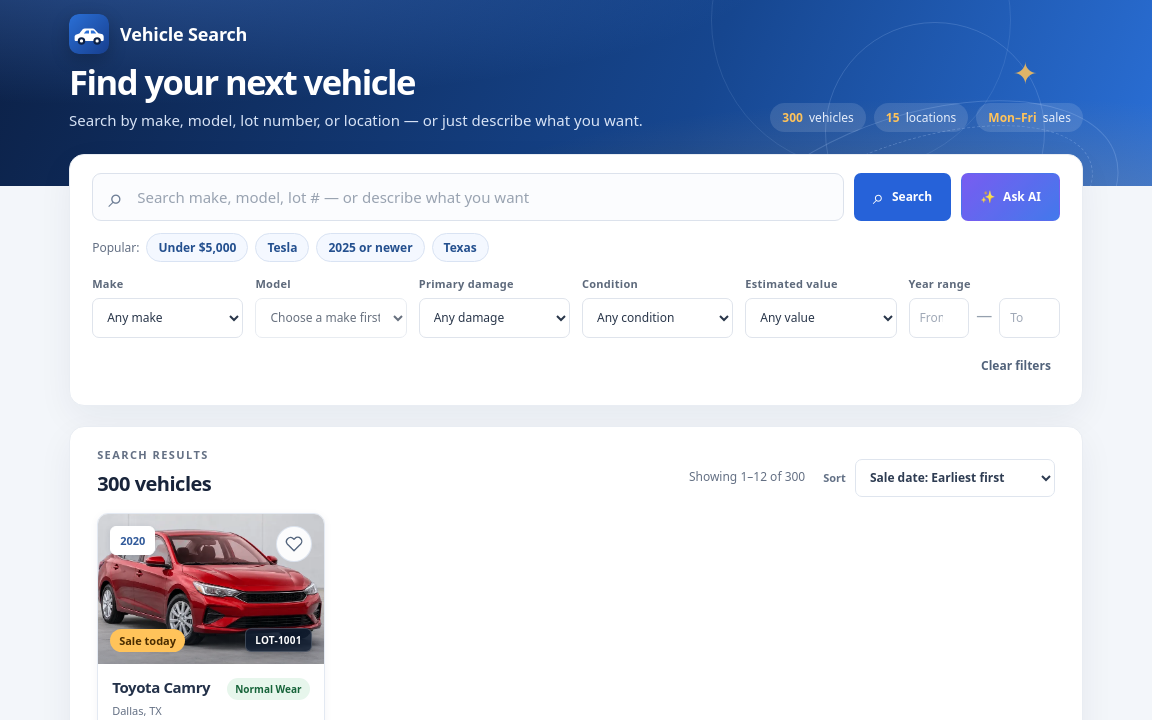
Test: search state regressions › tells the visitor how long to wait when AI search is rate limited
This screenshot has width=1152, height=720.
Expected: the heading "300 vehicles" is shown, [97,470,211,497]
In the search field named "search by vehicle": (482, 197) [135,186,828,208], type "Toyota under $20,000"
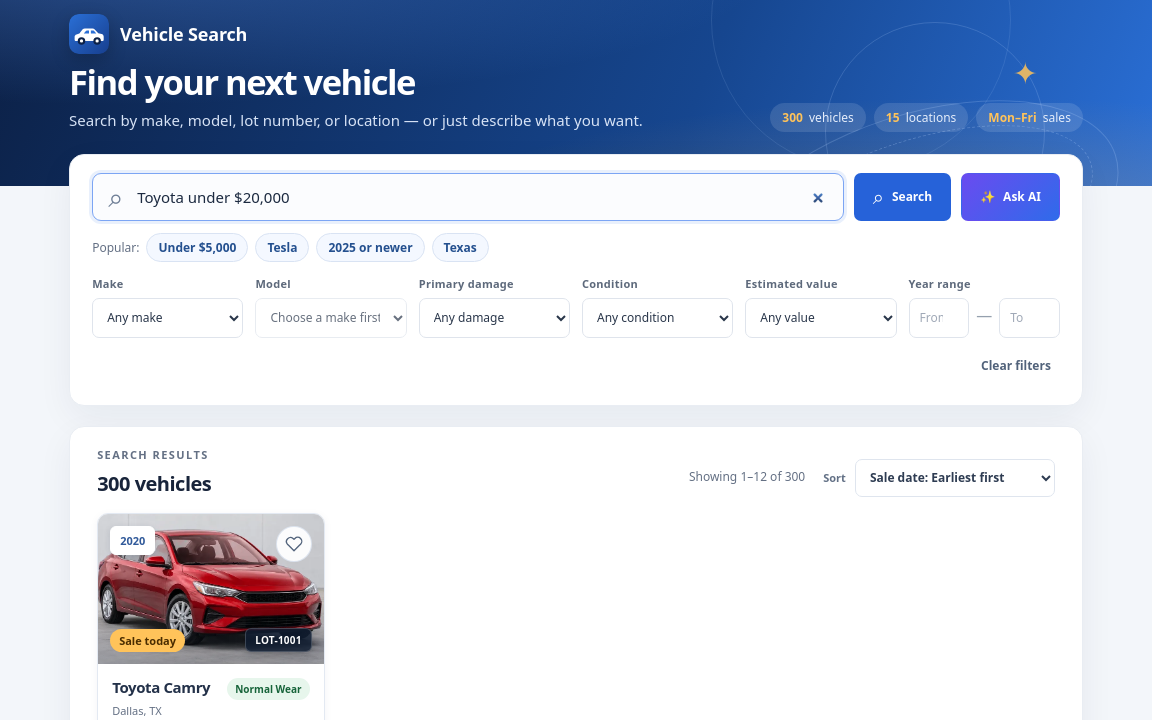
Click the button "✨ Ask AI": (1010, 197) [961,173,1060,221]
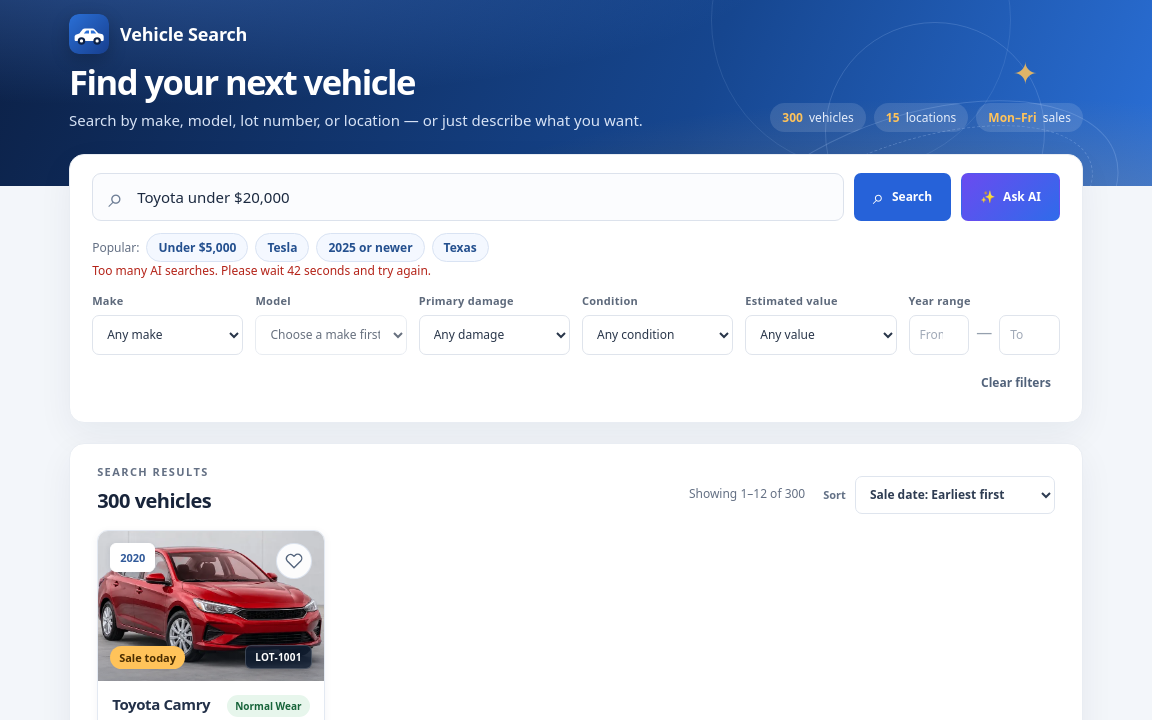
Expected: the text "Too many AI searches. Please wait 42 seconds and try again." is shown, [92,262,431,279]
